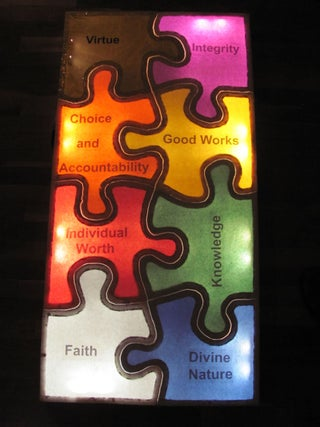puzzle piece: (50, 57, 166, 221), (121, 83, 261, 201)
